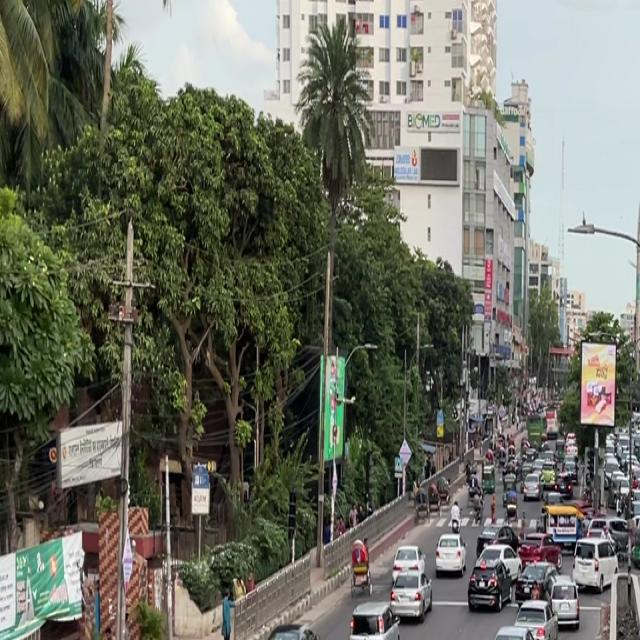car: (386, 548, 435, 626), (466, 548, 506, 618), (344, 594, 402, 640), (572, 535, 611, 598), (550, 572, 584, 639), (518, 587, 555, 640), (433, 522, 467, 578), (253, 614, 325, 640), (485, 621, 533, 640)
rickshaw: (632, 519, 640, 576)
